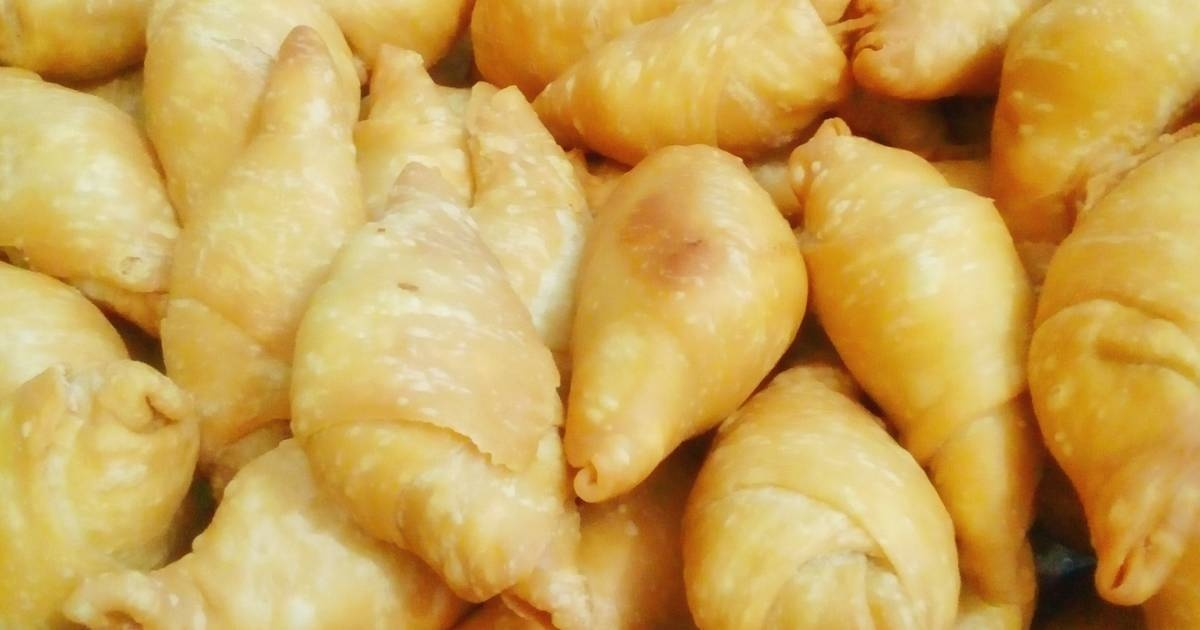pisang_molen: (289, 161, 577, 606), (790, 115, 1038, 591), (567, 144, 809, 492)
